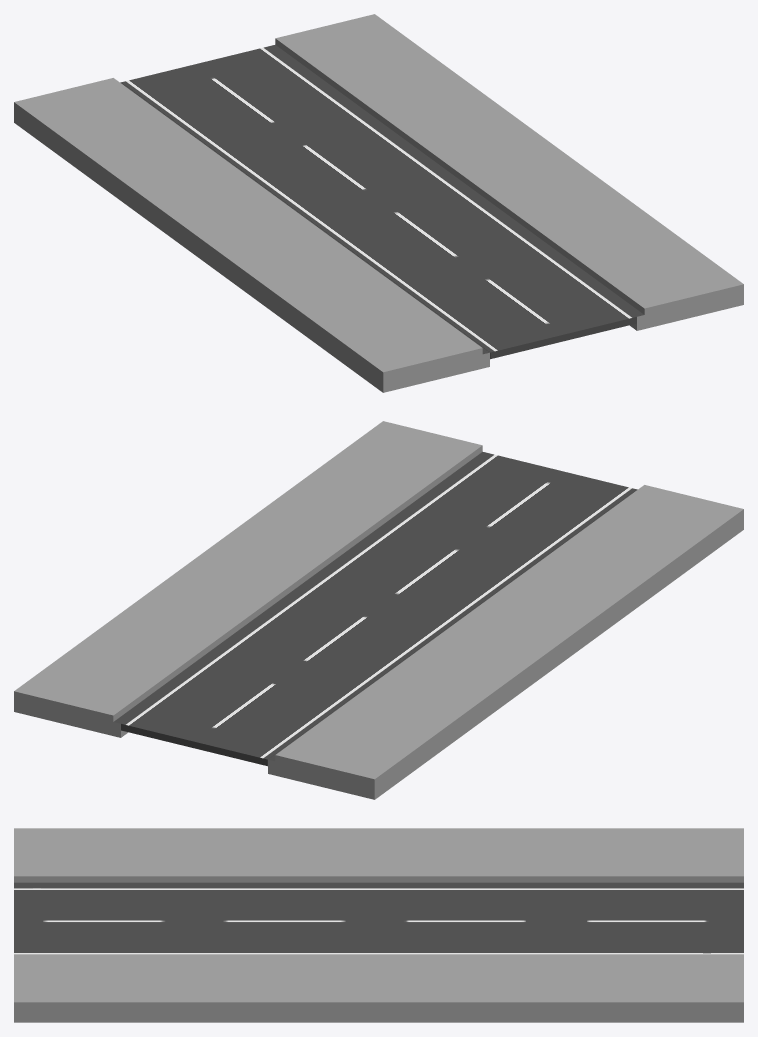
File: tile_road_2.fbx
3 views of the same model, one above another, from view 1: azimuth 30°, elevation 25°; view 2: azimuth 150°, elevation 25°; view 3: azimuth 270°, elevation 25° (orthographic).
Visible parts, largest first — view 1: road_2, sidewalk_L, sidewalk_R; view 2: road_2, sidewalk_L, sidewalk_R; view 3: road_2, sidewalk_R, sidewalk_L.
Boxes of the visible parts, x1=… form: road_2: x1=121, y1=46, x2=636, y2=359; sidewalk_L: x1=14, y1=78, x2=489, y2=392; sidewalk_R: x1=268, y1=14, x2=743, y2=330; road_2: x1=121, y1=453, x2=636, y2=766; sidewalk_L: x1=268, y1=485, x2=743, y2=799; sidewalk_R: x1=14, y1=421, x2=489, y2=737; road_2: x1=14, y1=886, x2=743, y2=954; sidewalk_R: x1=14, y1=954, x2=743, y2=1022; sidewalk_L: x1=14, y1=828, x2=743, y2=886.
Size of the model in its own units: 1950 by 107 by 3455.
Materials: 3 (3 with a texture image).
